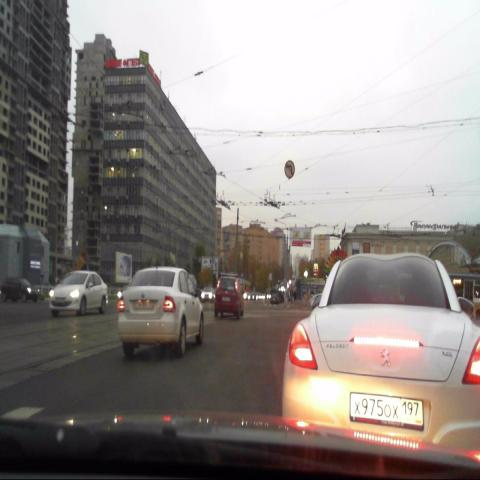3_18_2: (284, 159, 295, 178)
